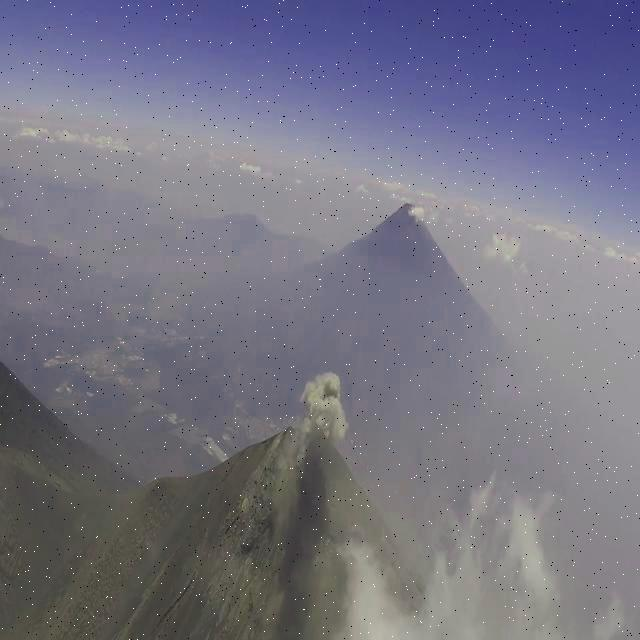Plume: (301, 369, 349, 442)
Summit: (180, 418, 450, 640)
